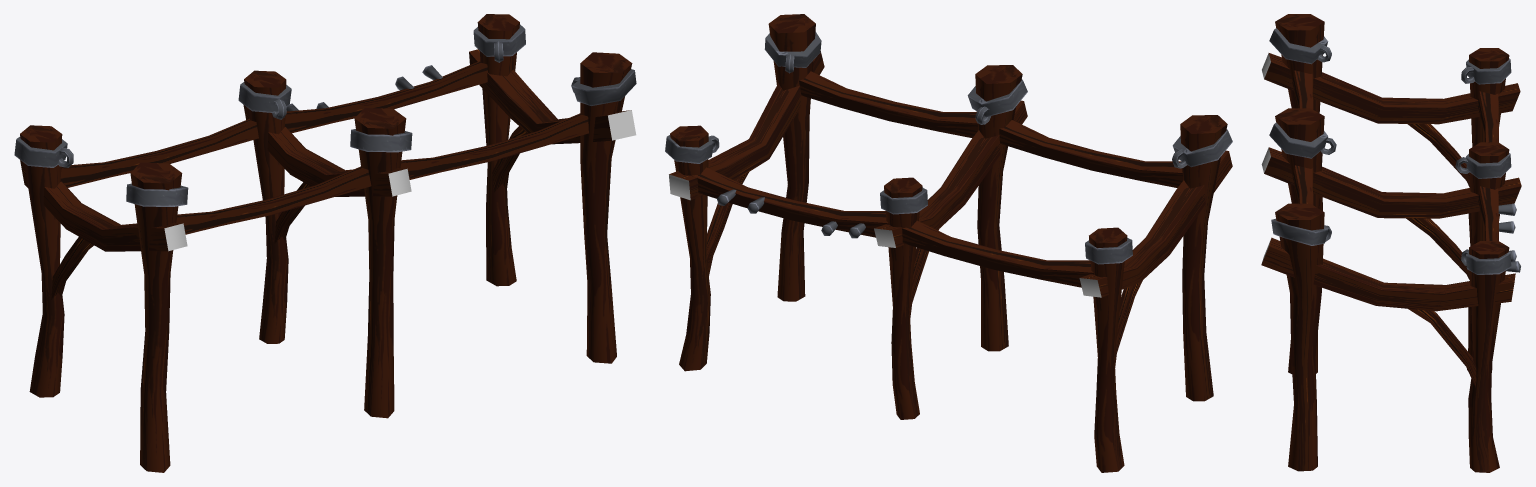
Rendered from SM_PROP_market_v04_02.fbx.
3 renders of one model, left to right at view 1: azimuth 30°, elevation 25°; view 2: azimuth 150°, elevation 25°; view 3: azimuth 270°, elevation 25°, orthographic. The views are drawn at different scales.
Visible parts, largest first — view 1: SM_PROP_market_v04_02; view 2: SM_PROP_market_v04_02; view 3: SM_PROP_market_v04_02.
Part boxes in pixels (bbox=[...]): SM_PROP_market_v04_02: bbox=[14, 14, 636, 472]; SM_PROP_market_v04_02: bbox=[665, 14, 1232, 472]; SM_PROP_market_v04_02: bbox=[1261, 14, 1521, 472].
Size of the model in its own units: 668 by 378 by 349.
